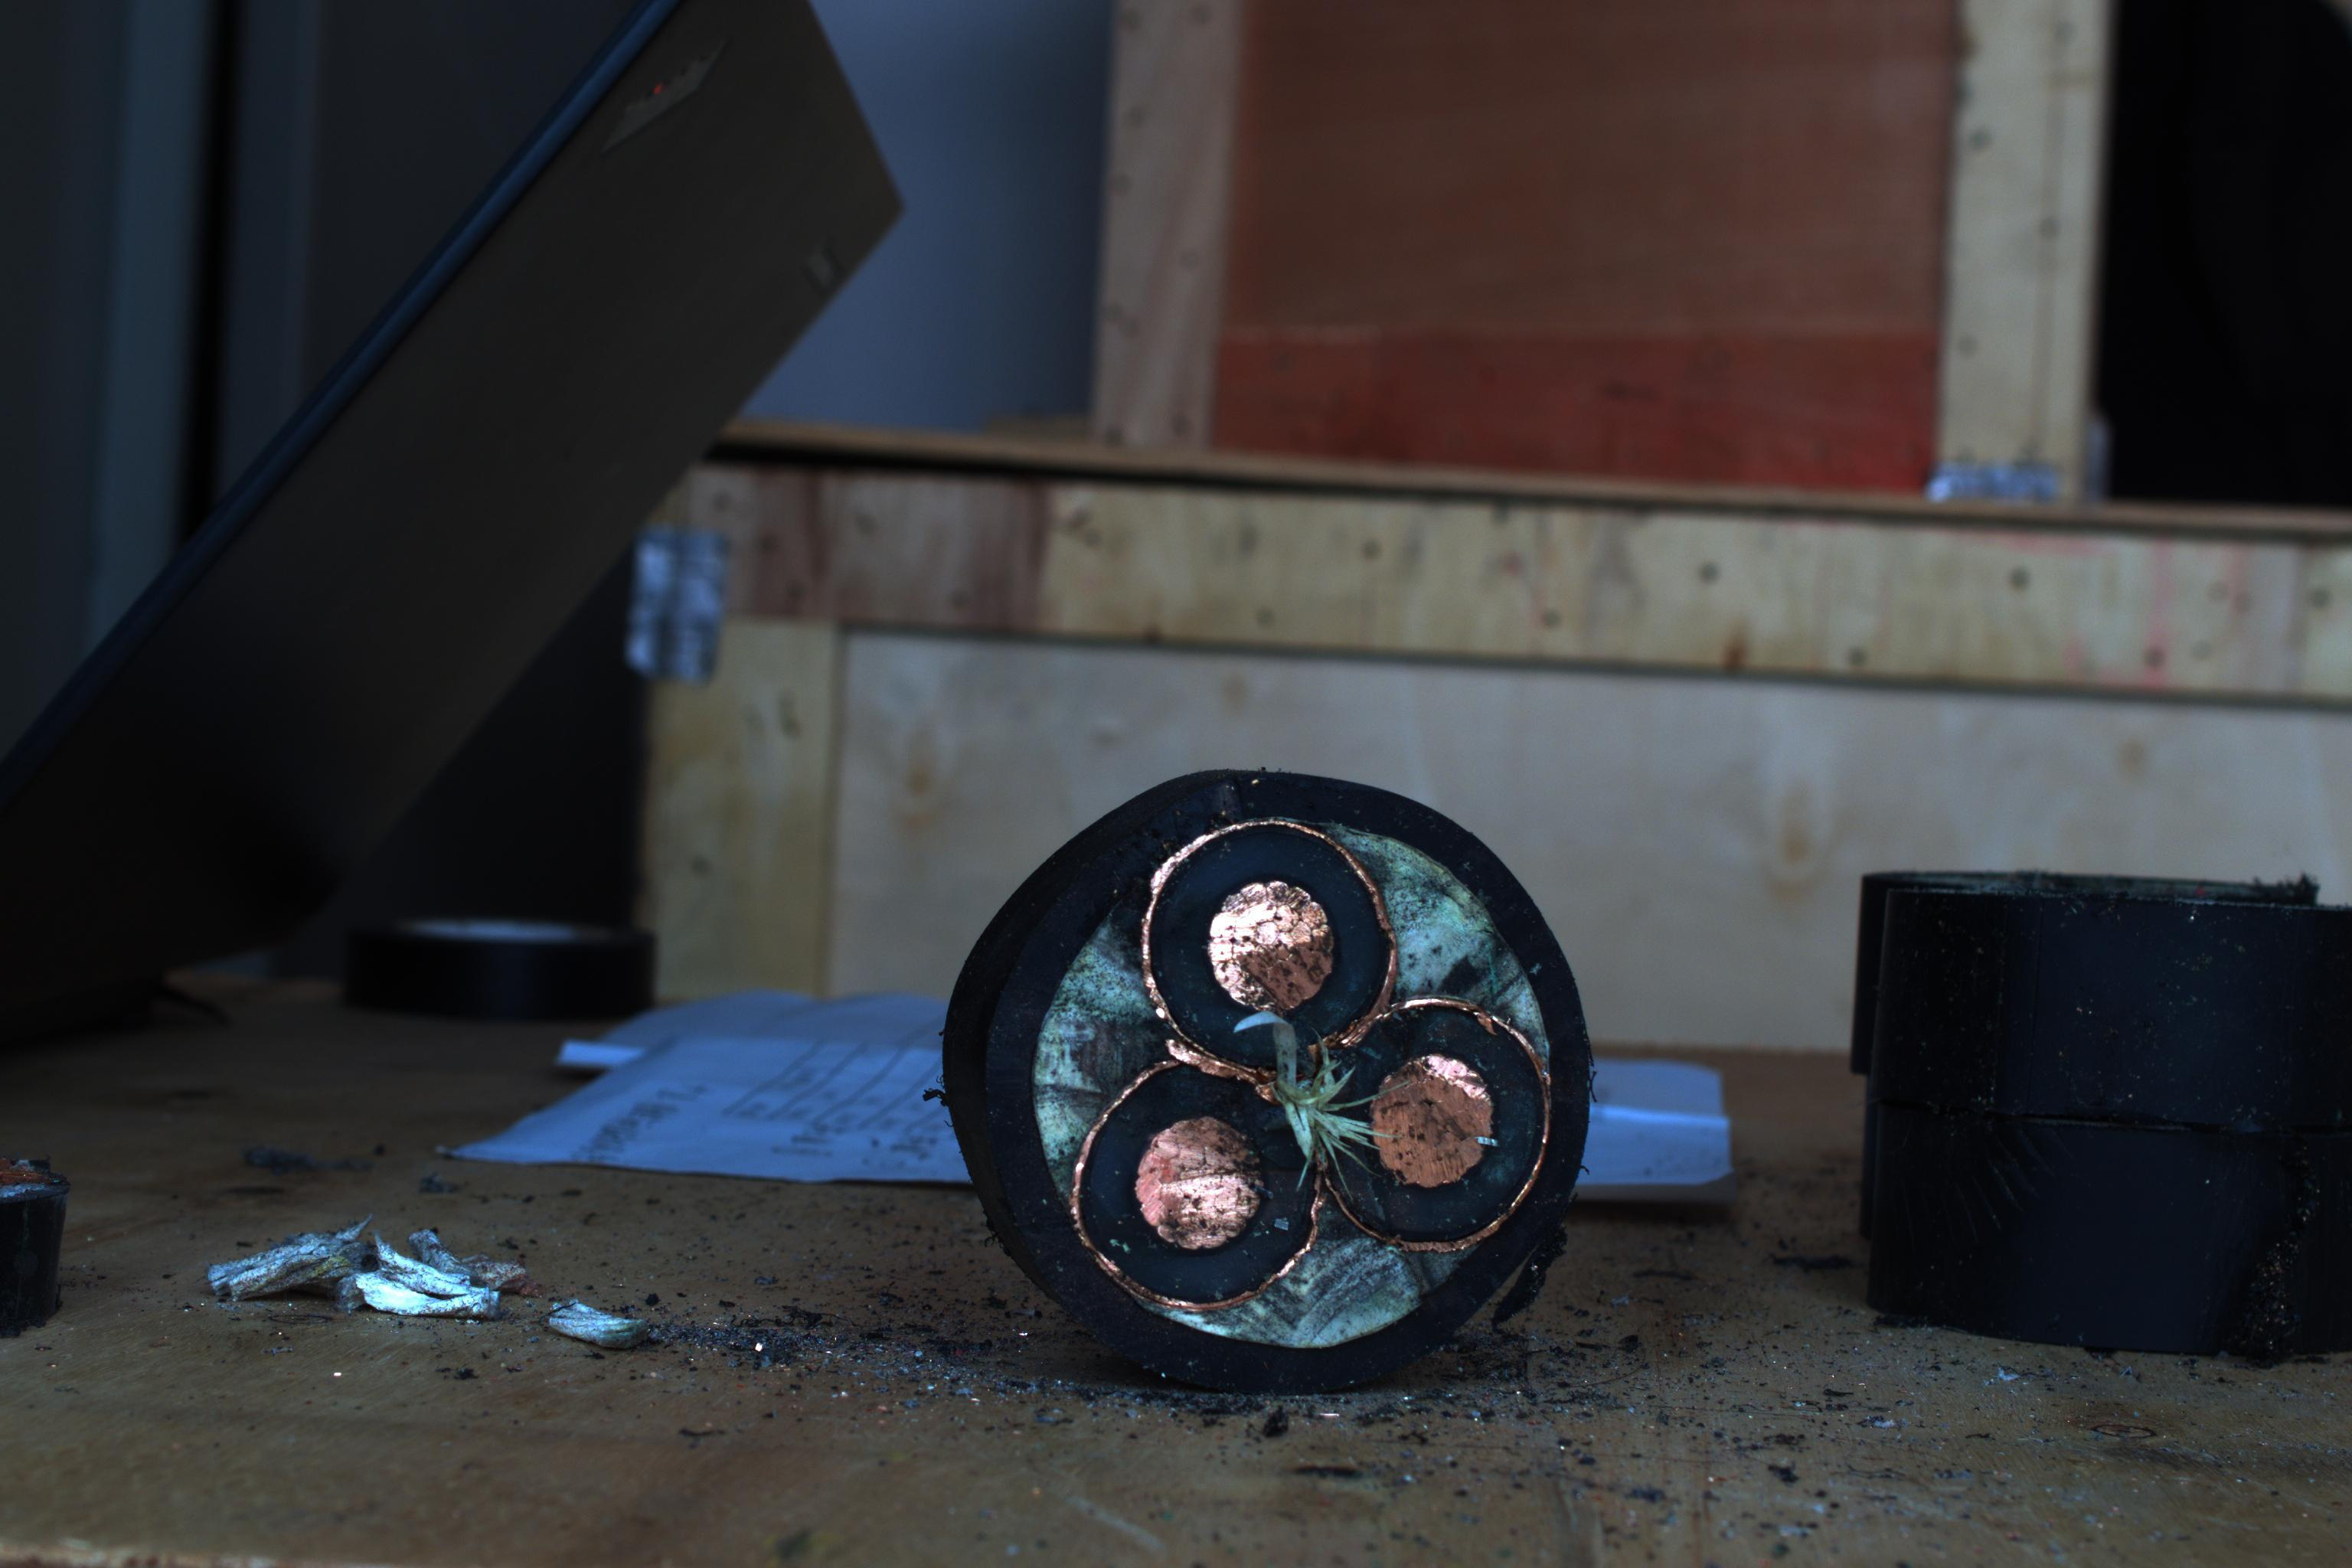ZA_YJV_8.7_10kV_3x120: (983, 794, 1592, 1360)
